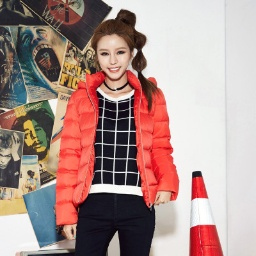face: (89, 16, 145, 80)
